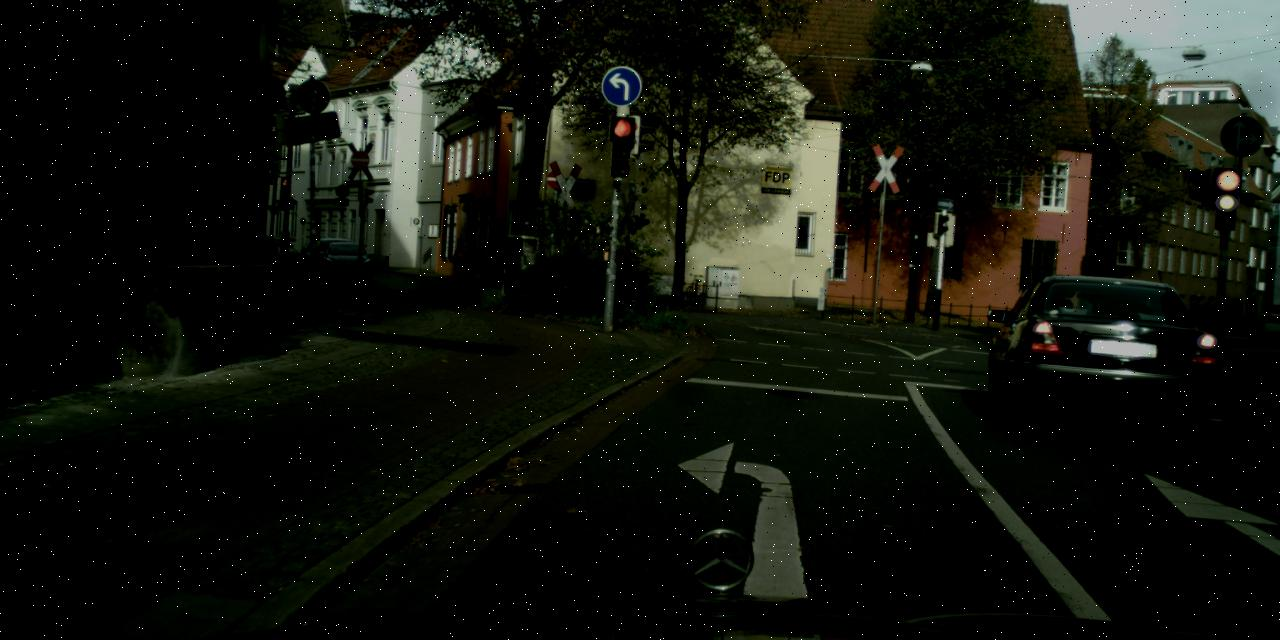ped: (452, 244, 467, 282), (471, 246, 485, 282)
